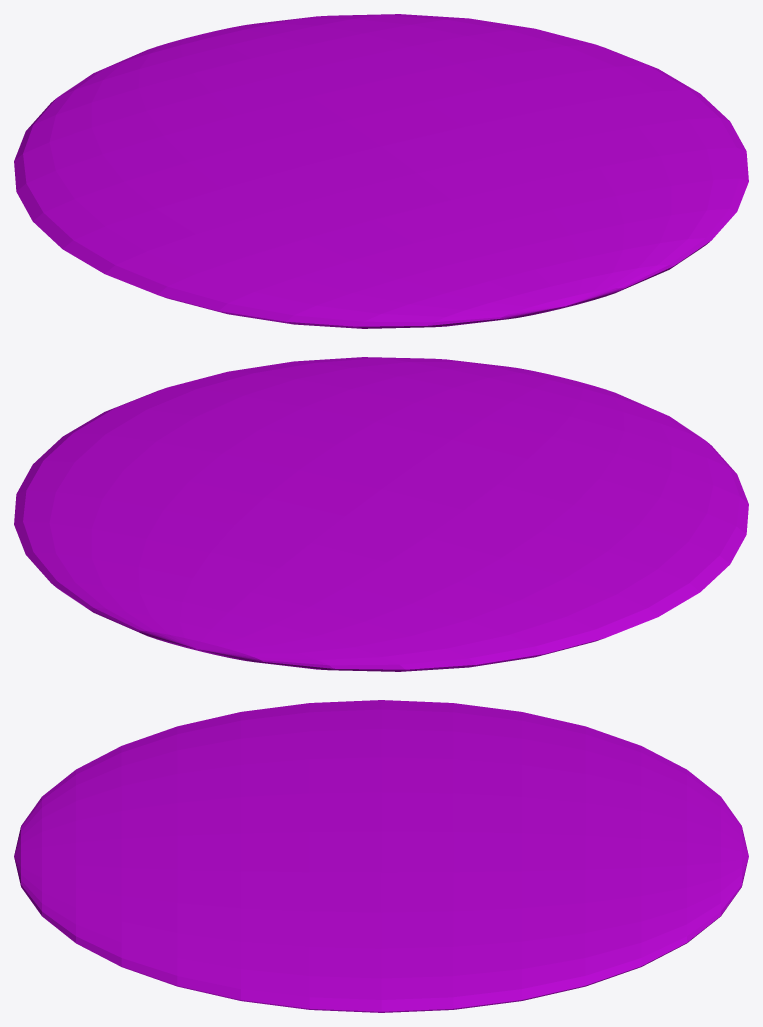
File: portal002.obj
3 views of the same model, one above another, from view 1: azimuth 30°, elevation 25°; view 2: azimuth 150°, elevation 25°; view 3: azimuth 270°, elevation 25° (orthographic).
Parts seen in each view (by area): view 1: portal.002_Sphere.006; view 2: portal.002_Sphere.006; view 3: portal.002_Sphere.006.
Part boxes in pixels (x1,y1,x2,y2): portal.002_Sphere.006: (14, 14, 748, 328); portal.002_Sphere.006: (14, 357, 748, 671); portal.002_Sphere.006: (14, 700, 748, 1012).
Size of the model in its own units: 4 by 0.3 by 4.
